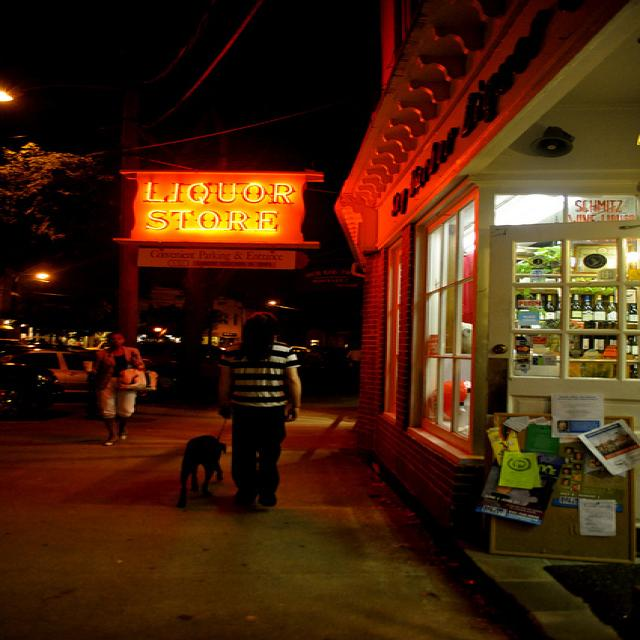Dog: (172, 432, 232, 497)
